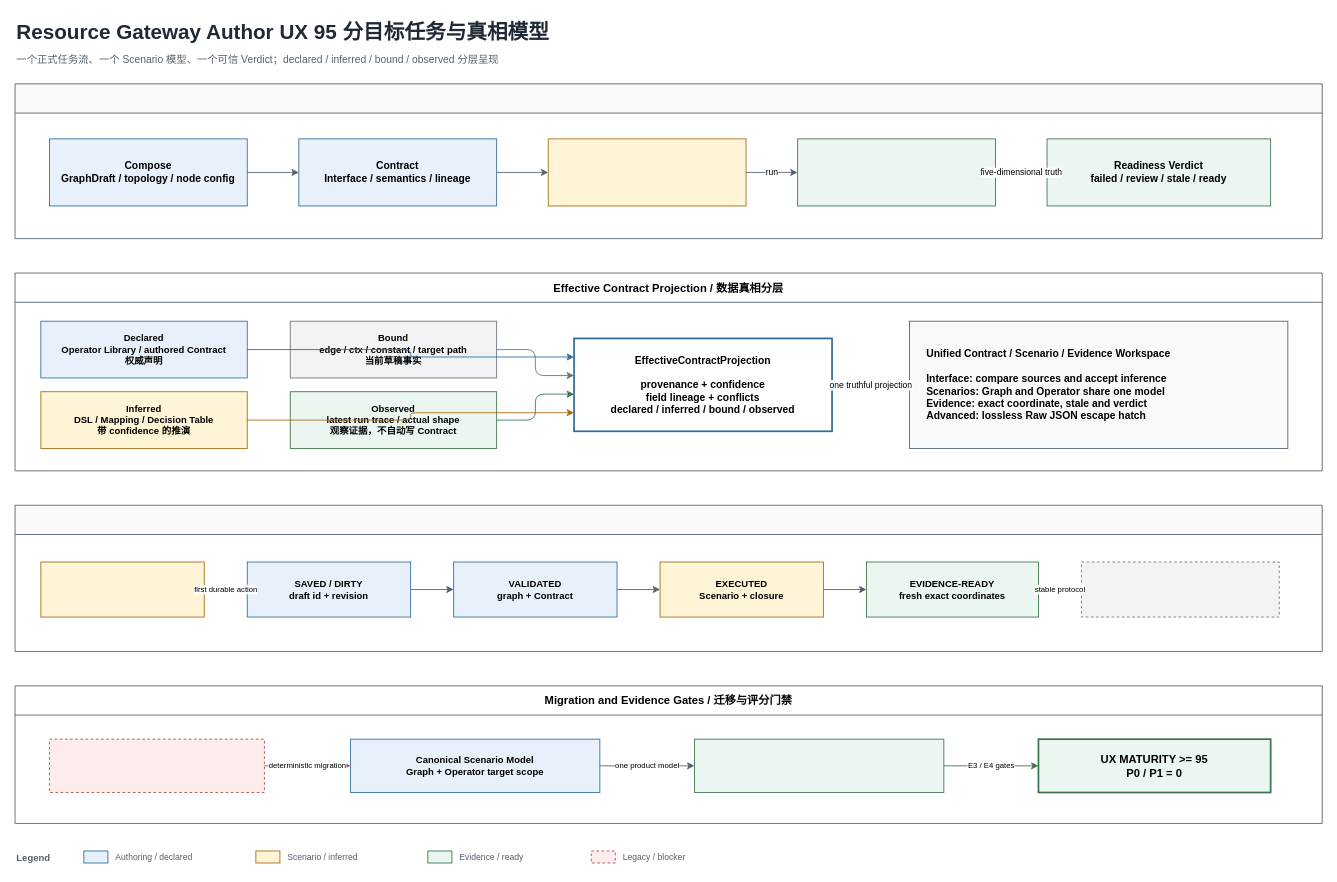
Image size: 1337x882. Some labels were removed from this diagram. The box of each missing label's shape, as (x1, y1, x2, y2) in pixels:
Canonical Author Journey / 唯一正式任务流: (14, 83, 1322, 239)
Draft / Run / Evidence Lifecycle / 可解释生命周期: (14, 504, 1322, 651)
EPHEMERAL content fingerprint: (40, 561, 204, 617)
Evidence run / assertions / trace / freshness: (797, 138, 995, 206)
GOVERNED CONSUMER ANEKE gate / workbook: (1081, 561, 1279, 617)
Legacy Raw Test Suite read adapter only: (49, 738, 264, 792)
Scenarios Given / Dependencies / Then: (547, 138, 746, 206)
Task Evidence browser + 12 users + two releases: (694, 738, 944, 792)
